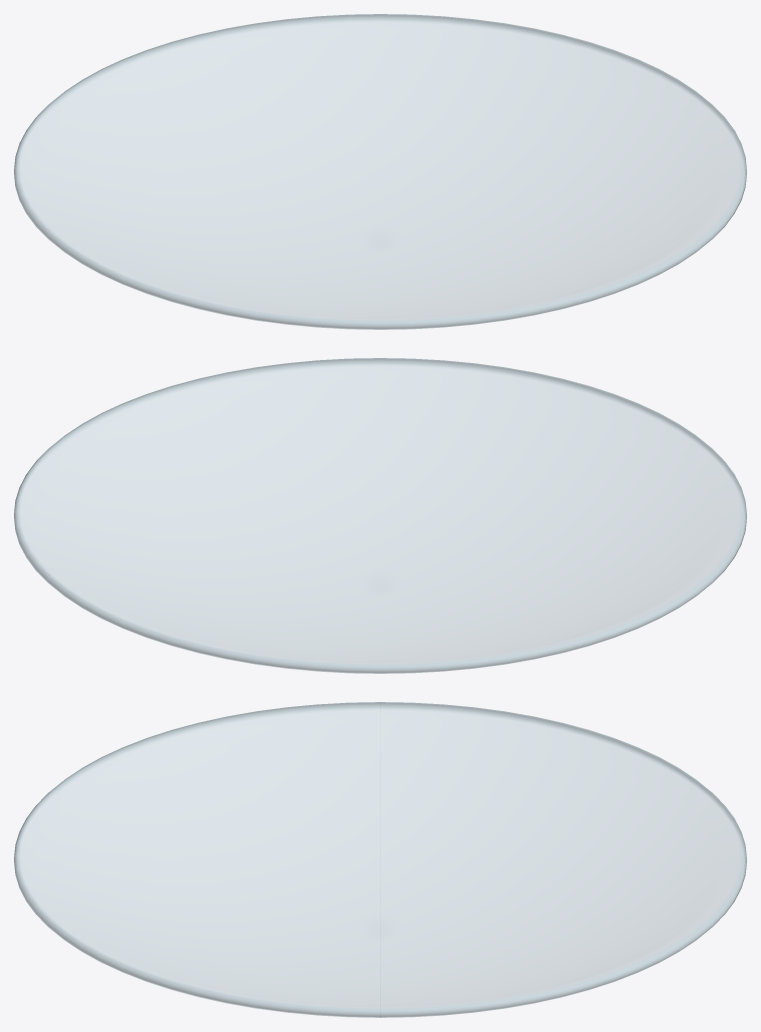
The model's file is watch-glass.glb.
3 renders of one model, top to bottom at view 1: azimuth 30°, elevation 25°; view 2: azimuth 150°, elevation 25°; view 3: azimuth 270°, elevation 25°, orthographic.
Parts seen in each view (by area): view 1: watch-glass-glass; view 2: watch-glass-glass; view 3: watch-glass-glass.
Boxes of the visible parts, x1,y1,x2,y2 form: watch-glass-glass: (14,14,746,329); watch-glass-glass: (14,358,746,673); watch-glass-glass: (14,702,746,1017).
Size of what is drawn, in the model's own units: 7.25 by 0.8438 by 7.25.
